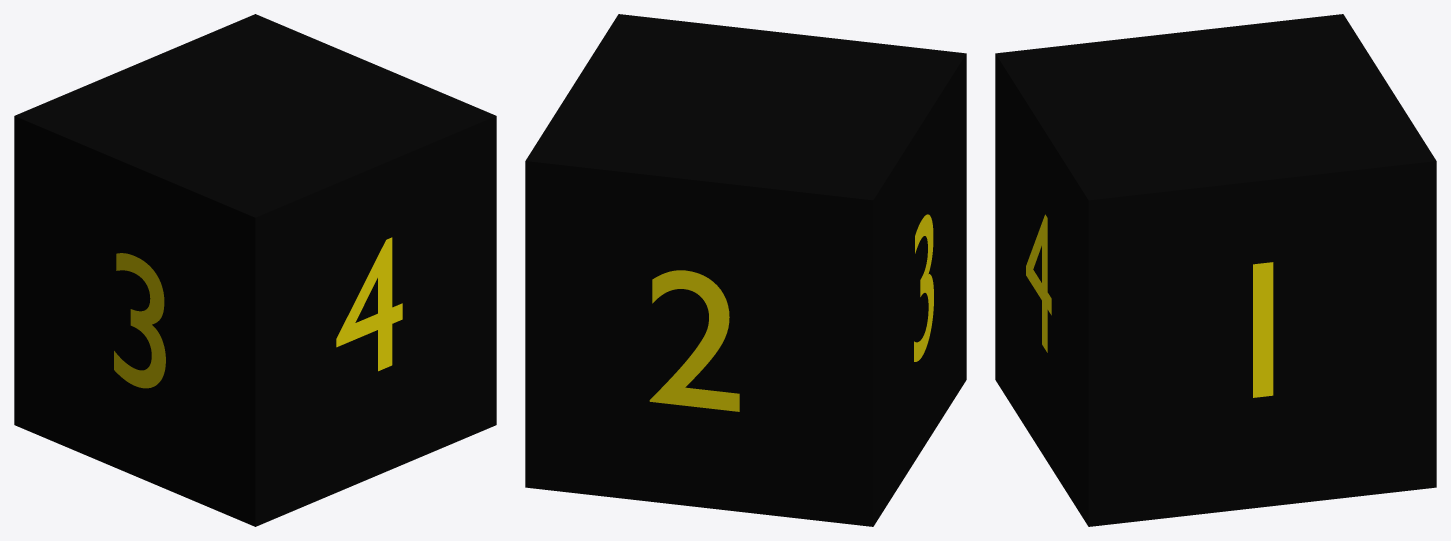
The picture shows the model from 3 angles, left to right: view 1: azimuth 30°, elevation 25°; view 2: azimuth 150°, elevation 25°; view 3: azimuth 270°, elevation 25°; orthographic projection. The views are drawn at different scales.
Parts seen in each view (by area): view 1: Cube, Text.003, Text.002; view 2: Cube, Text.001, Text.002; view 3: Cube, Text, Text.003.
Part boxes in pixels (x1,y1,x2,y2): Cube: [14, 14, 496, 526]; Text.003: [336, 237, 402, 371]; Text.002: [114, 253, 165, 388]; Cube: [525, 14, 966, 526]; Text.001: [649, 270, 739, 411]; Text.002: [914, 214, 933, 361]; Cube: [995, 14, 1436, 526]; Text: [1253, 262, 1273, 397]; Text.003: [1026, 214, 1051, 352].
Size of the model in its own units: 6.12 by 5 by 6.12.
